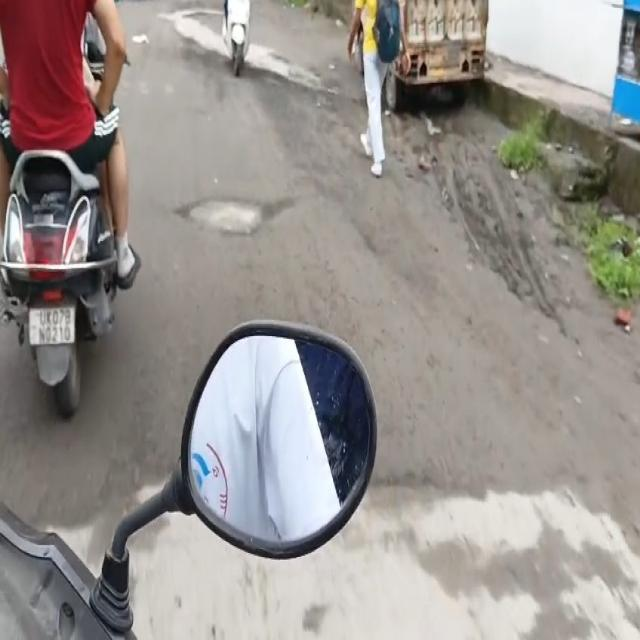road-pothole: (175, 195, 301, 242)
